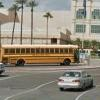buses: (0, 44, 80, 68)
